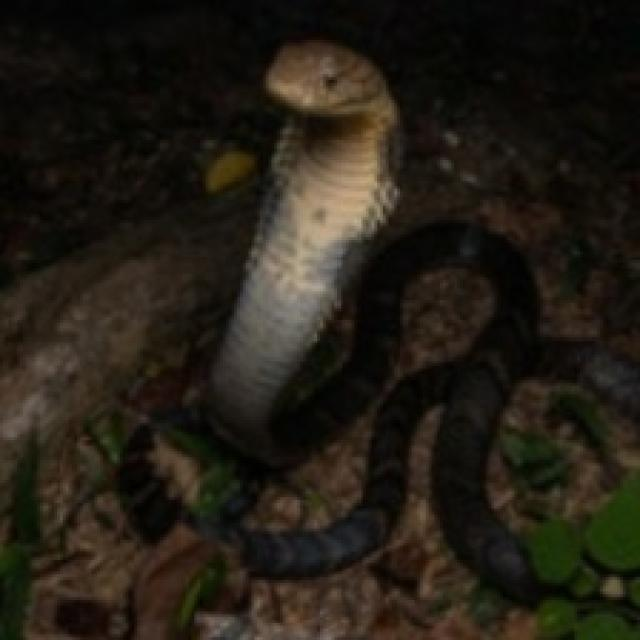king cobra: (209, 40, 537, 600)
